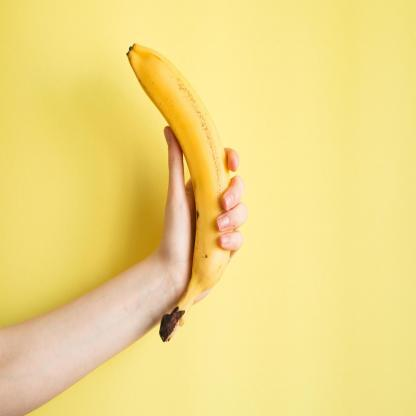banana: (126, 44, 240, 342)
